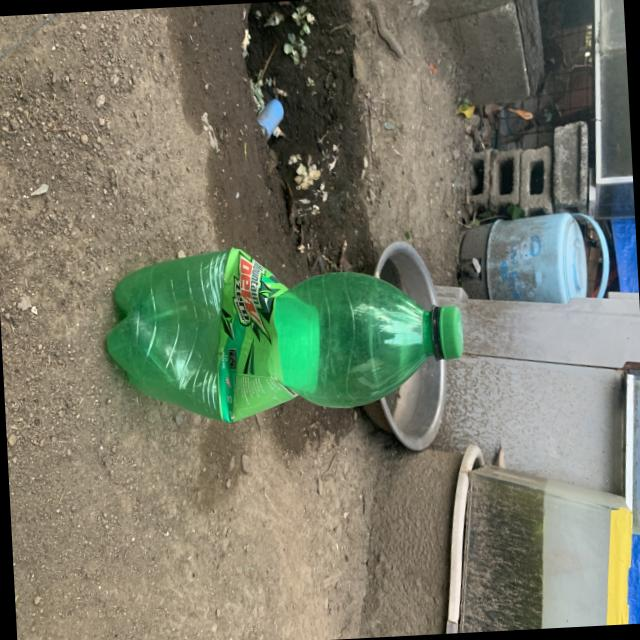Bottle: (106, 249, 462, 422)
